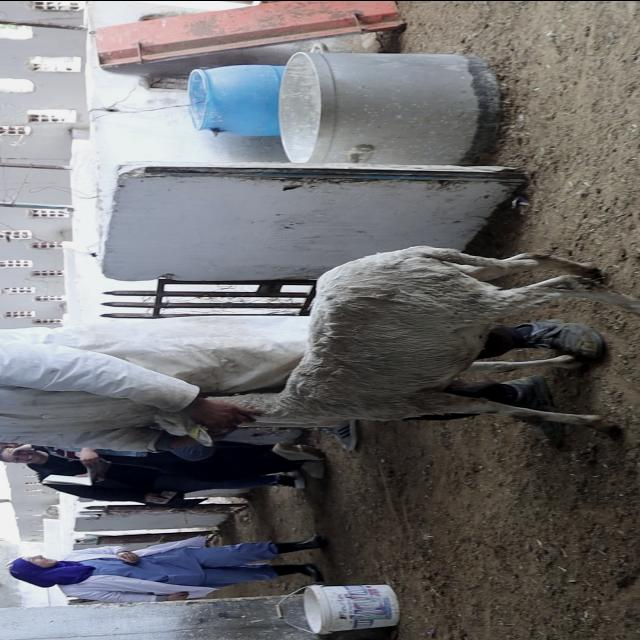Score_3: (210, 245, 639, 436)
